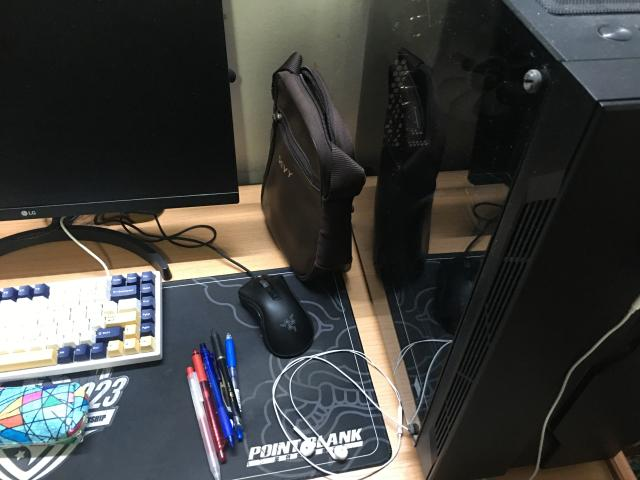Mouse: (239, 275, 314, 358)
Pen: (185, 327, 245, 480)
wire: (272, 349, 380, 474)
